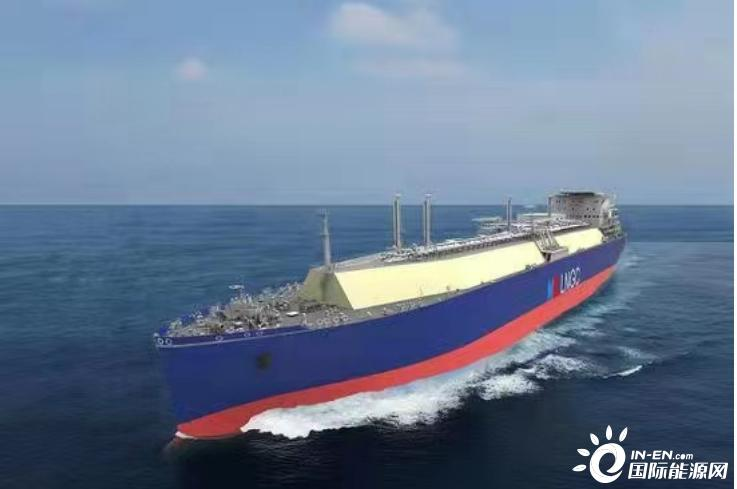Cargoship: (147, 191, 623, 438)
